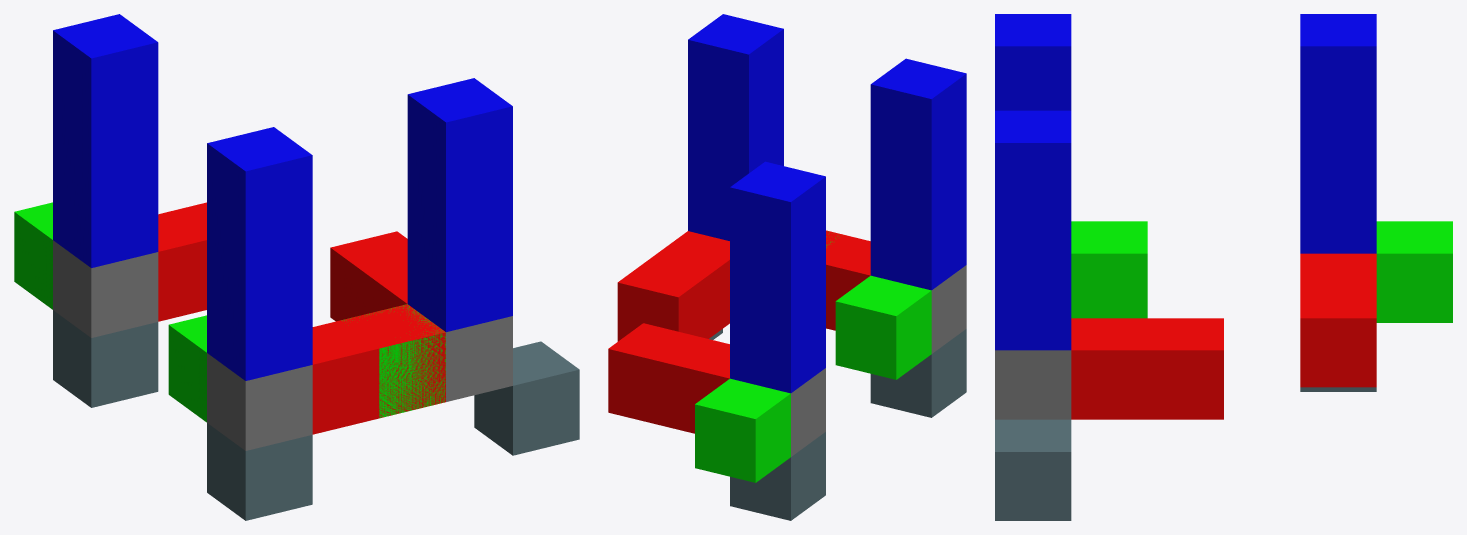
Rendered from assembled.glb.
3 renders of one model, left to right at view 1: azimuth 30°, elevation 25°; view 2: azimuth 150°, elevation 25°; view 3: azimuth 270°, elevation 25°, orthographic. The views are drawn at different scales.
Parts seen in each view (by area): view 1: axis-color:chunk:0,0,0 (×3), scene-proof:chunk:0,0,0; view 2: axis-color:chunk:0,0,0 (×3), scene-proof:chunk:0,0,0; view 3: axis-color:chunk:0,0,0 (×3), scene-proof:chunk:0,0,0.
Boxes of the visible parts, x1,y1,x2,y2 form: axis-color:chunk:0,0,0 (×3): (14,14,512,450); scene-proof:chunk:0,0,0: (53,310,579,520); axis-color:chunk:0,0,0 (×3): (608,14,966,482); scene-proof:chunk:0,0,0: (709,329,966,520); axis-color:chunk:0,0,0 (×3): (995,14,1452,419); scene-proof:chunk:0,0,0: (995,387,1376,520).
Bounding box in the file's own units: 1.25 × 1.25 × 1.5.
